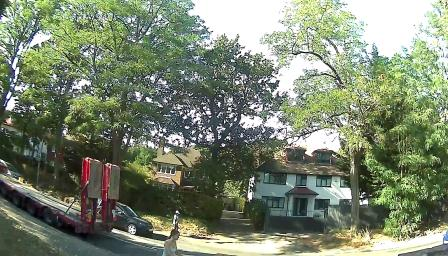Cars: (0, 156, 131, 238), (102, 196, 156, 239)
